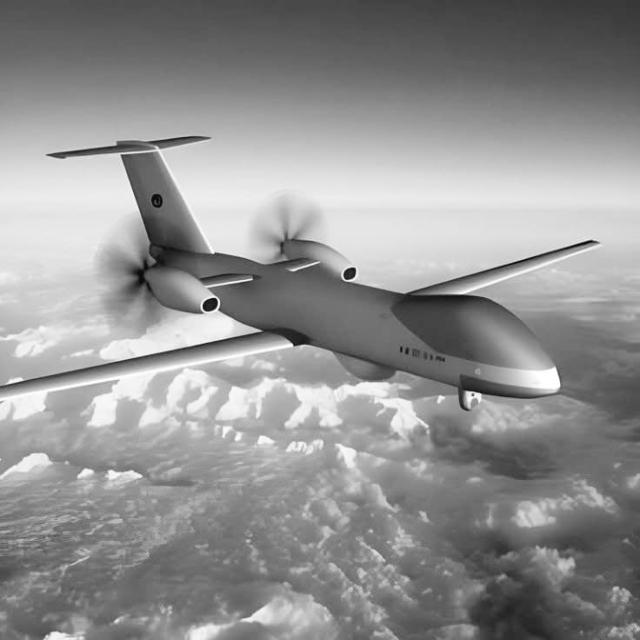iha: (0, 132, 598, 410)
